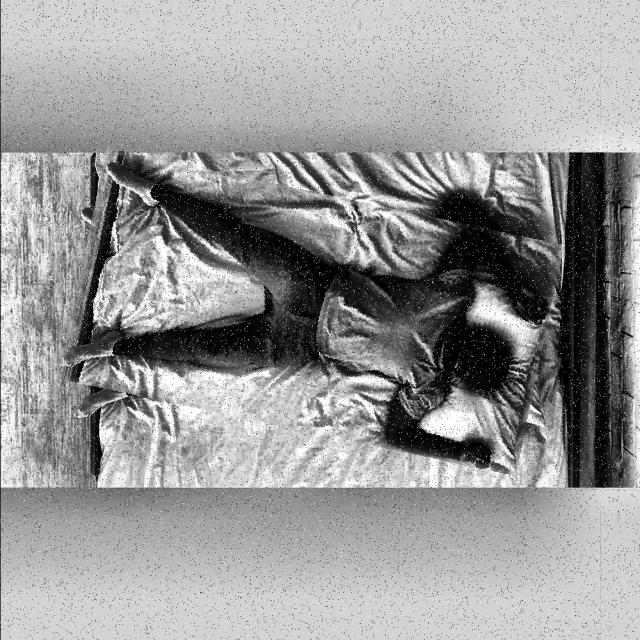Not_Supine: (62, 164, 552, 470)
